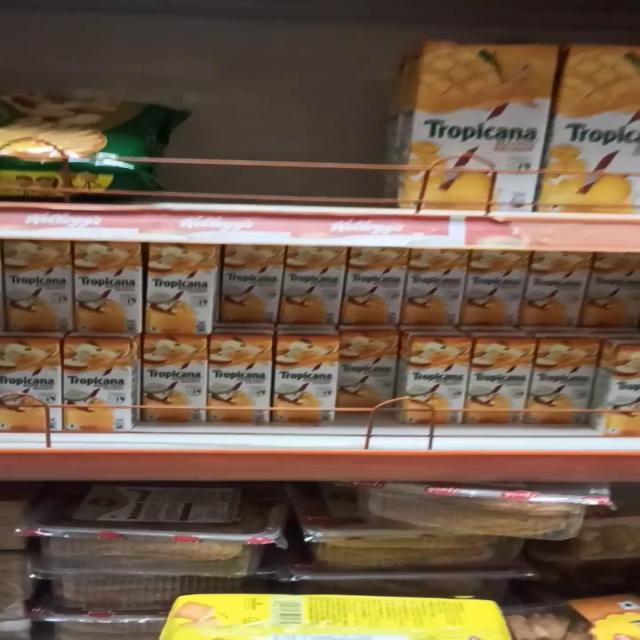Tropicana: (390, 36, 550, 211), (68, 238, 146, 337), (144, 242, 215, 342), (270, 246, 348, 329), (400, 250, 475, 336), (5, 237, 71, 331), (277, 338, 345, 429), (58, 344, 132, 423), (468, 342, 534, 430), (212, 249, 284, 329), (343, 250, 411, 334), (140, 342, 213, 419), (208, 340, 279, 418), (464, 255, 530, 333), (407, 343, 469, 422), (538, 343, 598, 422), (339, 339, 402, 412), (530, 246, 585, 325)
